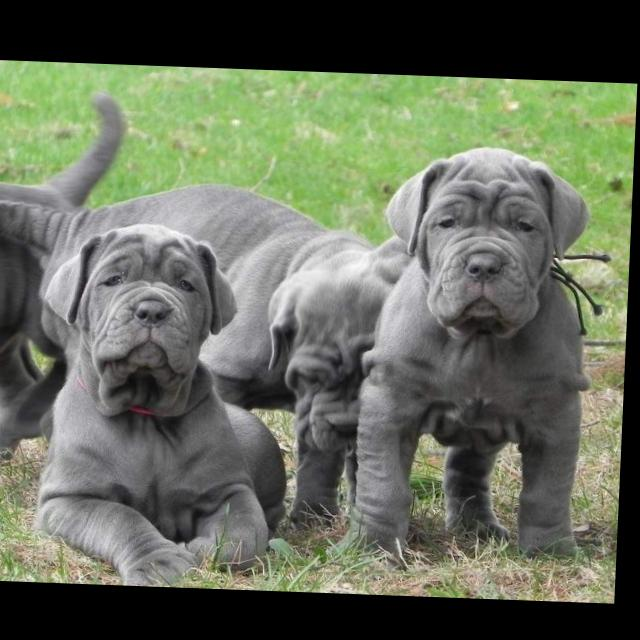mastino_napoletano: (1, 183, 417, 535), (331, 138, 618, 574), (31, 218, 301, 590), (1, 91, 133, 465)
